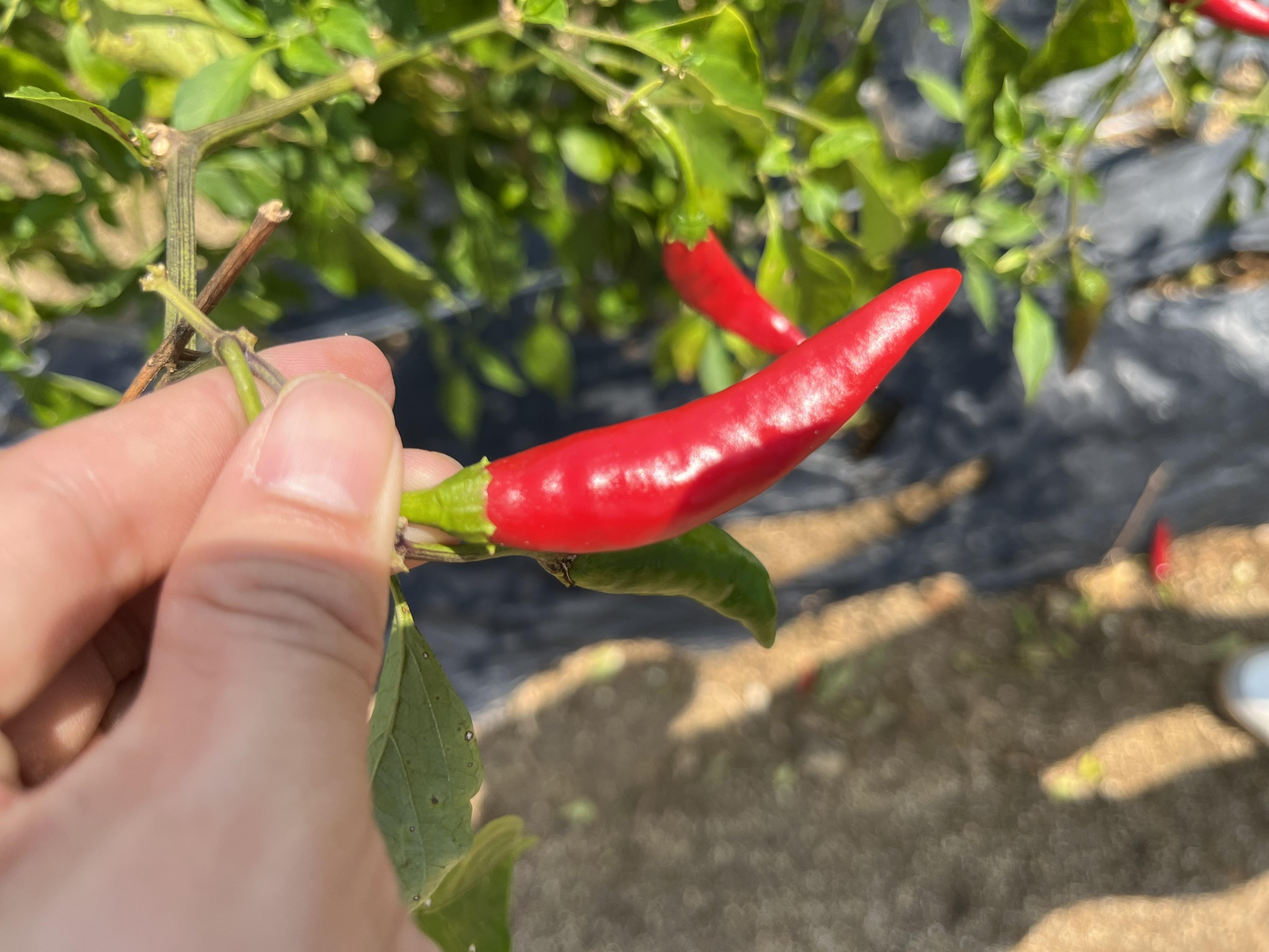Buah Cabai Sehat: (508, 277, 936, 739)
